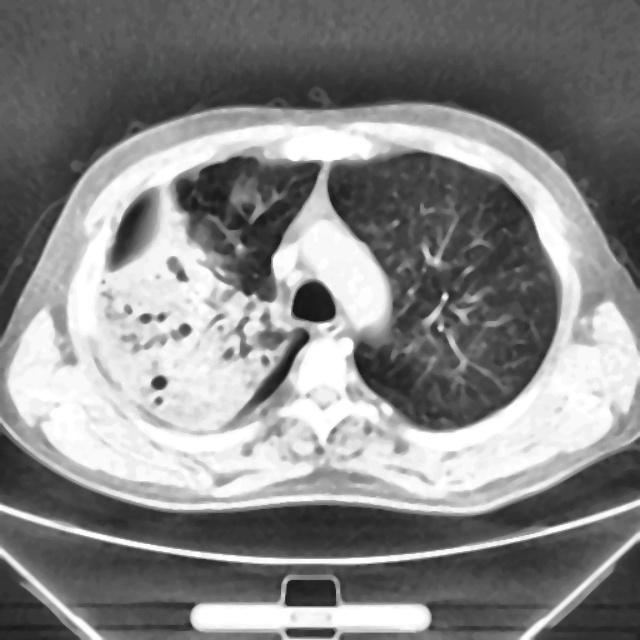covid: (2, 99, 638, 517)
